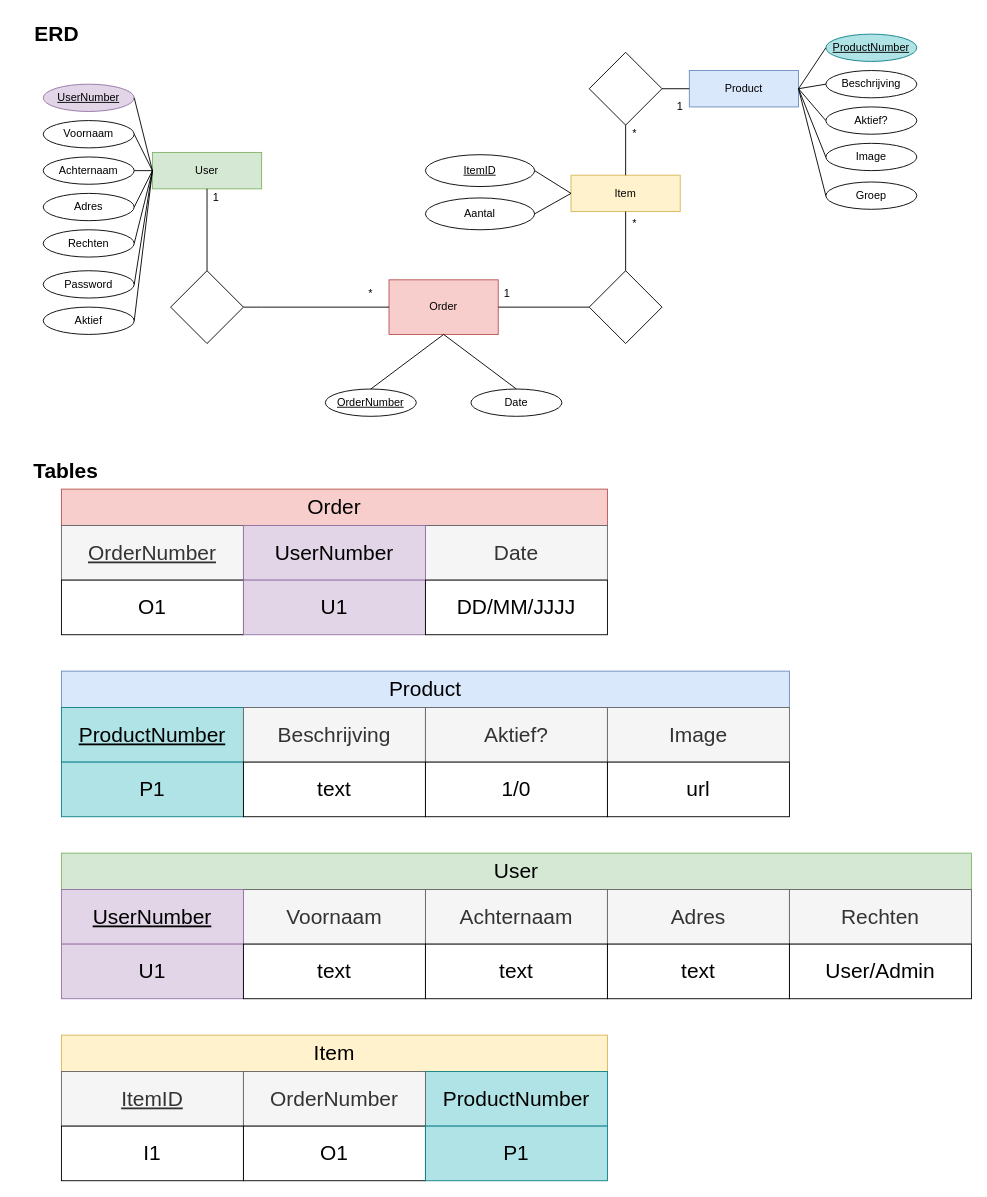
The diagram is 987 pixels wide and 1197 high, and some of its shapes have lost their labels. Each missing label, with the centre of its shape:
is: the point at 625,88
Store: the point at 625,307
Users: the point at 206,307
